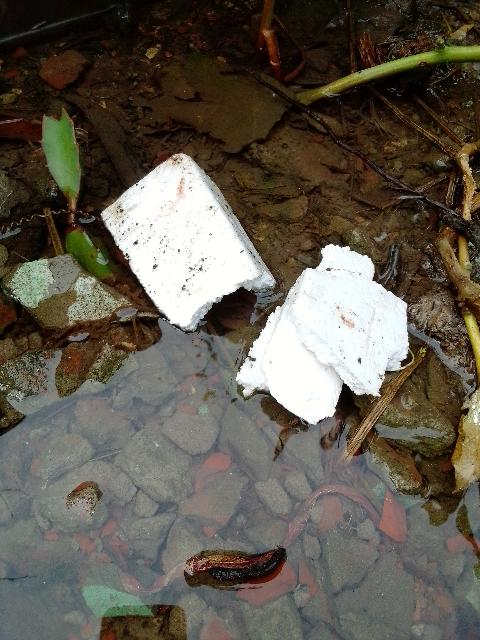cocksheet: (95, 142, 294, 349), (228, 229, 405, 439)
